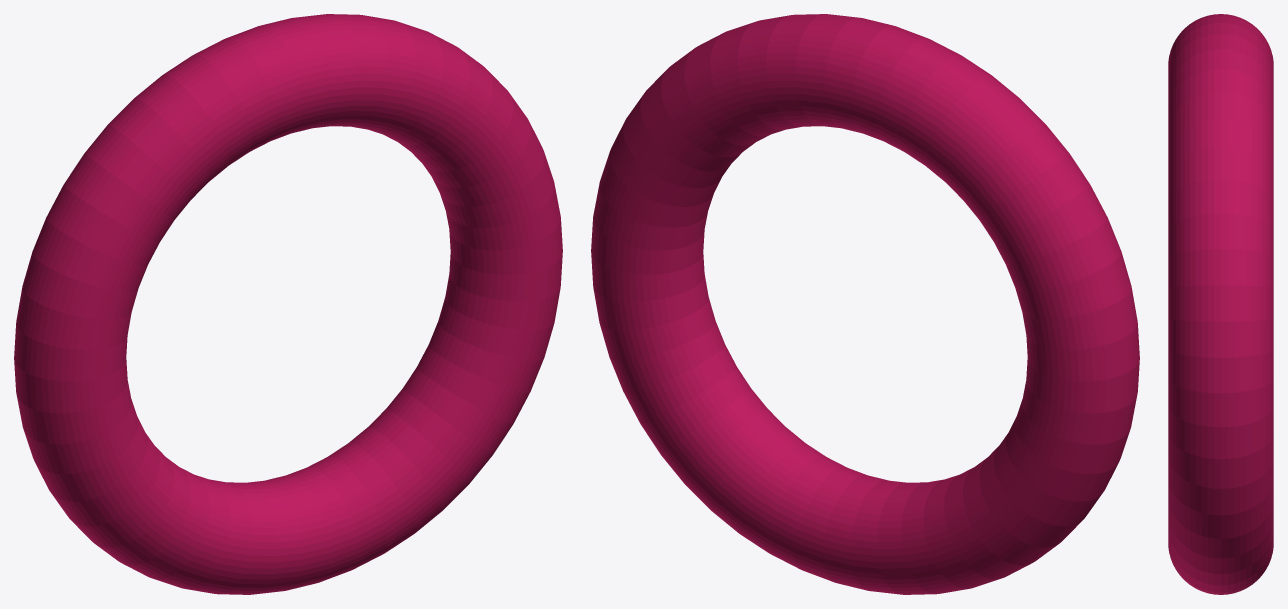
3 renders of one model, left to right at view 1: azimuth 30°, elevation 25°; view 2: azimuth 150°, elevation 25°; view 3: azimuth 270°, elevation 25°, orthographic. The views are drawn at different scales.
Visible parts, largest first — view 1: world; view 2: world; view 3: world.
Boxes of the visible parts, bbox=[...] form: world: bbox=[14, 14, 562, 594]; world: bbox=[591, 14, 1139, 594]; world: bbox=[1168, 14, 1273, 594].
Size of the model in its own units: 35.87 by 35.8 by 6.52.
